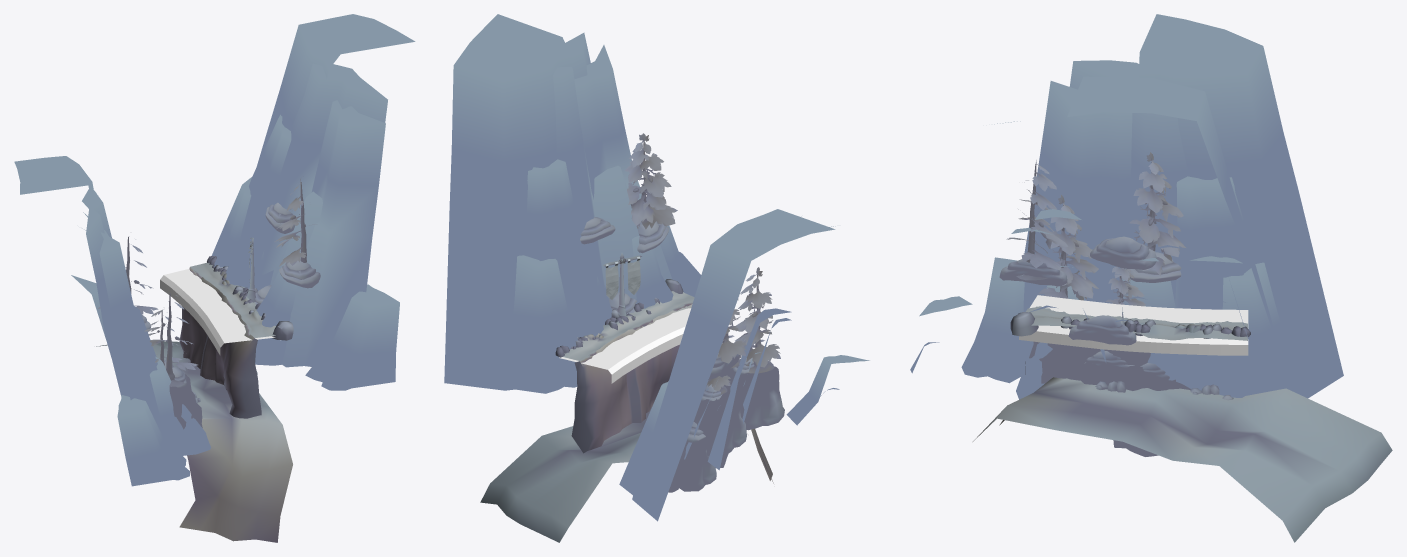
The model's file is Arctic_Narrows_Left_Curve_Right_15_A.glb.
3 renders of one model, left to right at view 1: azimuth 30°, elevation 25°; view 2: azimuth 150°, elevation 25°; view 3: azimuth 270°, elevation 25°, orthographic. The views are drawn at different scales.
Visible parts, largest first — view 1: Arctic_Narrows_Left_Curve_Right_15_A, inv_fill; view 2: Arctic_Narrows_Left_Curve_Right_15_A, inv_fill; view 3: Arctic_Narrows_Left_Curve_Right_15_A, inv_fill.
Boxes of the visible parts, box(x1,y1,x2,y2) form: Arctic_Narrows_Left_Curve_Right_15_A: box(14, 14, 415, 542); inv_fill: box(160, 269, 280, 355); Arctic_Narrows_Left_Curve_Right_15_A: box(444, 14, 869, 542); inv_fill: box(559, 308, 691, 383); Arctic_Narrows_Left_Curve_Right_15_A: box(910, 14, 1392, 542); inv_fill: box(1019, 295, 1248, 355).
Size of what is drawn, in the model's own units: 24.81 by 27.62 by 23.79.
